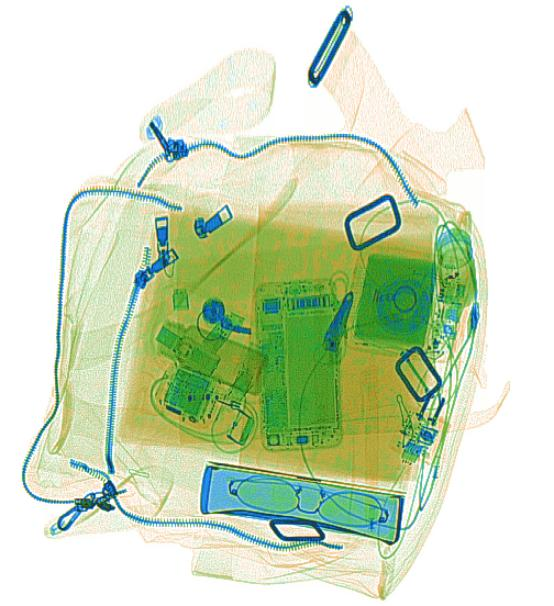USBFlashDisk: (154, 320, 219, 375), (188, 312, 243, 367)
